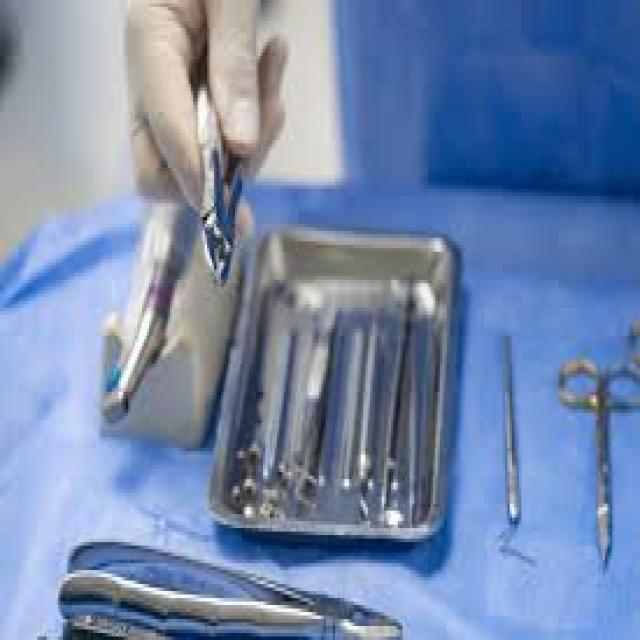tools_table: (2, 206, 640, 636)
